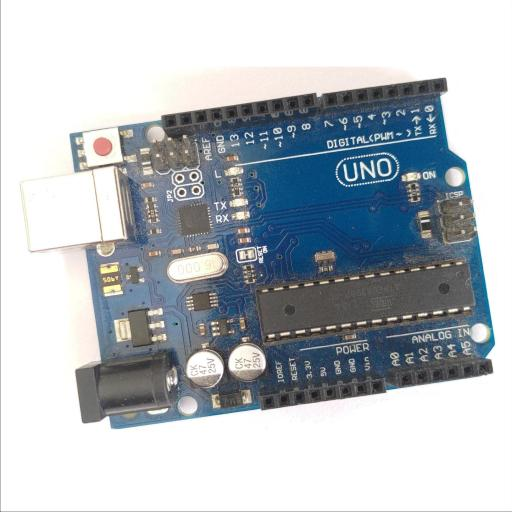Arduino Uno R3: (22, 74, 497, 430)
